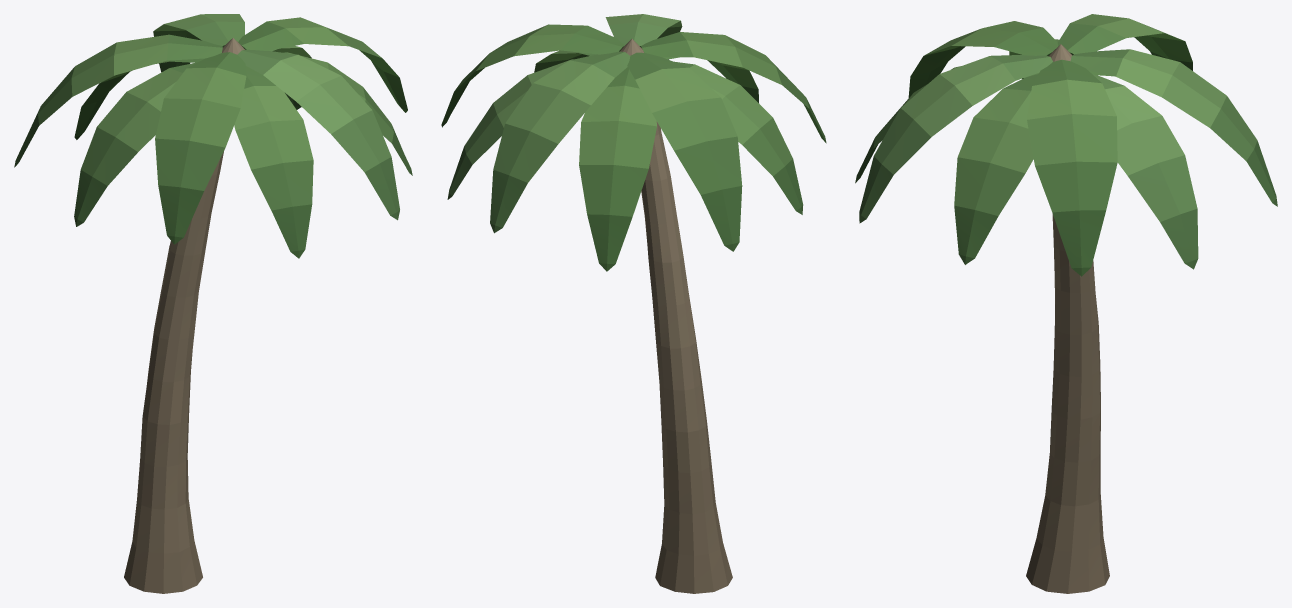
Rendered from Palm_Tree_1.glb.
3 views of the same model, side by side, from view 1: azimuth 30°, elevation 25°; view 2: azimuth 150°, elevation 25°; view 3: azimuth 270°, elevation 25° (orthographic). The views are drawn at different scales.
Parts seen in each view (by area): view 1: Palm_Tree_1_Merged; view 2: Palm_Tree_1_Merged; view 3: Palm_Tree_1_Merged.
Part boxes in pixels (x1,y1,x2,y2): Palm_Tree_1_Merged: (14, 14, 412, 593); Palm_Tree_1_Merged: (441, 14, 826, 593); Palm_Tree_1_Merged: (855, 14, 1277, 593).
Bounding box in the file's own units: 3.87 × 5.65 × 3.8.
